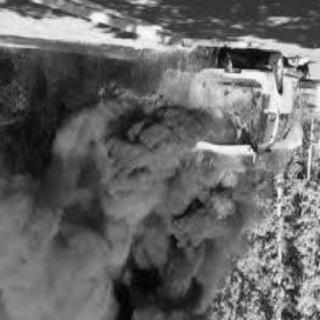Fire: (174, 65, 310, 232)
Smoke: (0, 79, 192, 320)
